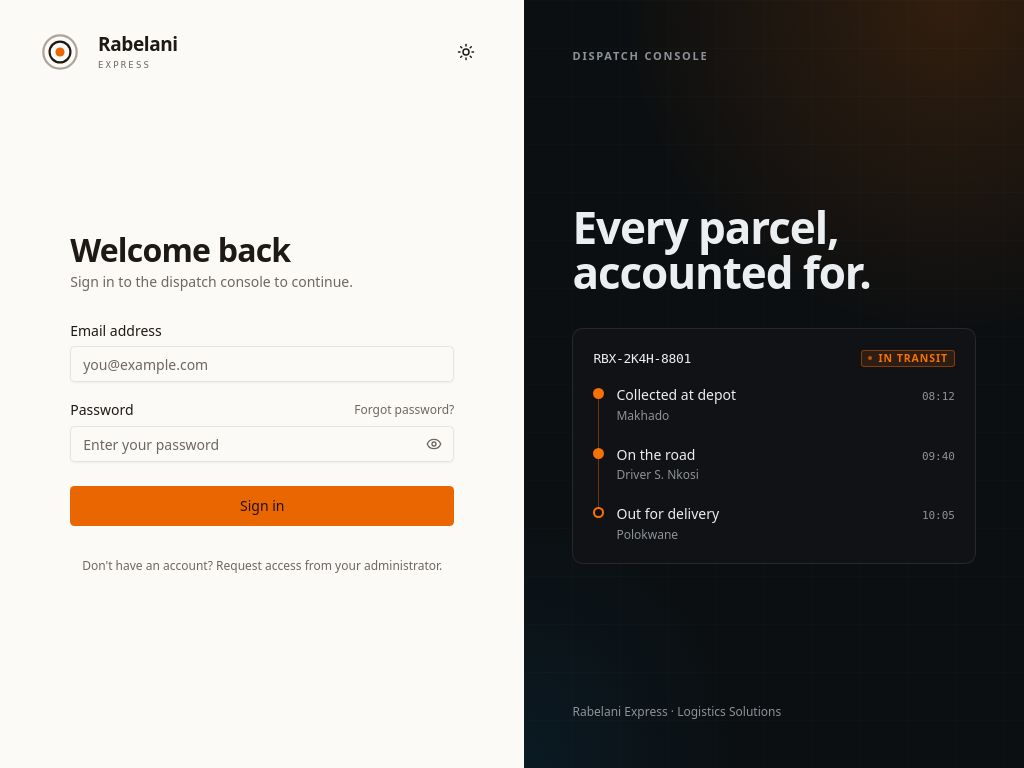
Test: Login (integration) › surfaces the auth error on failure
Type "ops@rabelani.co.za" into the field labelled "Email address" at [262, 364], box [70,346,454,382]
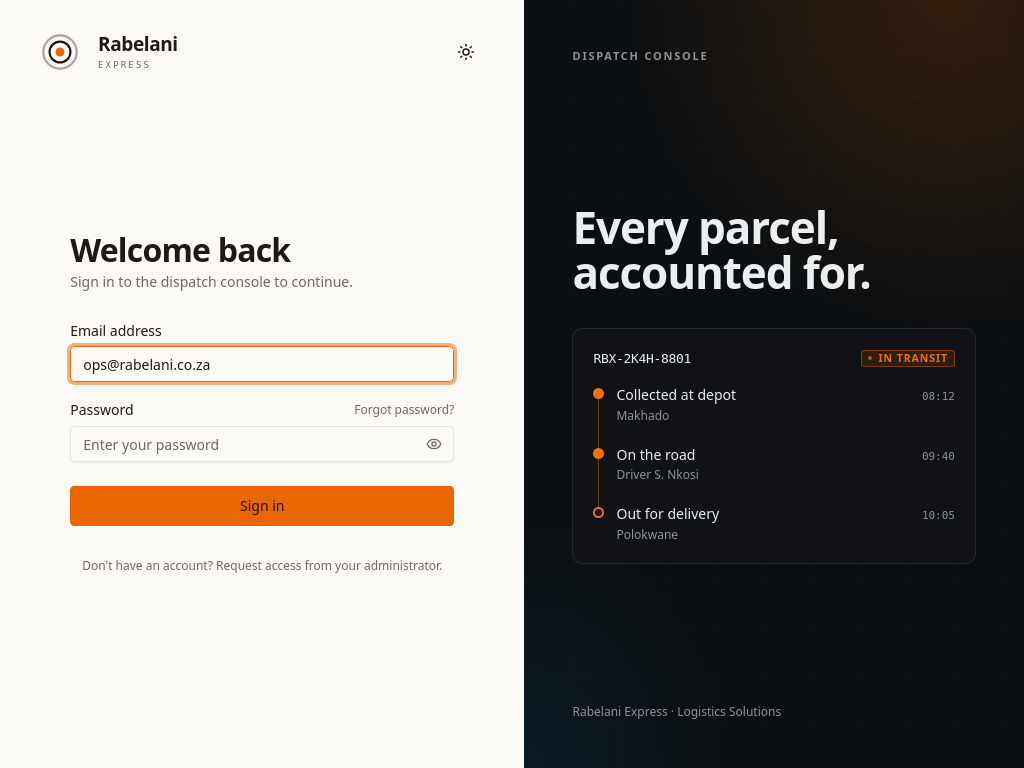
Type "wrong-pass" into the password field labelled "Password" at [262, 444], box [70,426,454,462]
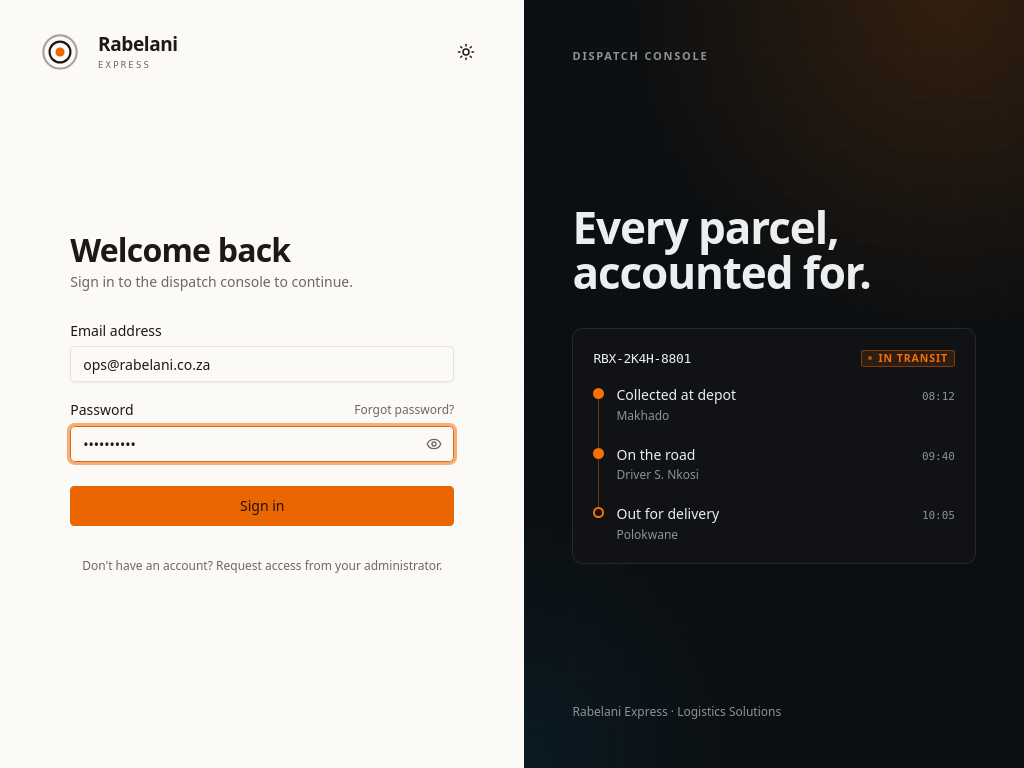
Click the button "Sign in" at [262, 506], box [70,486,454,526]
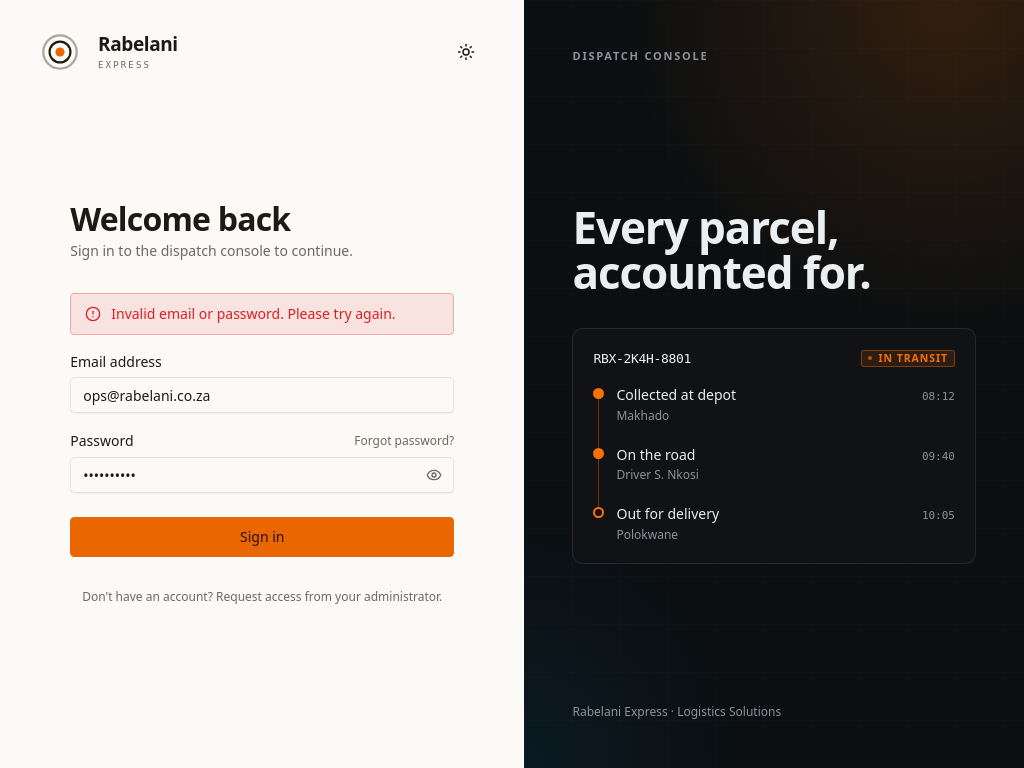
Check: the text "Invalid email or password. Please try again." is shown, box [111,304,396,324]
